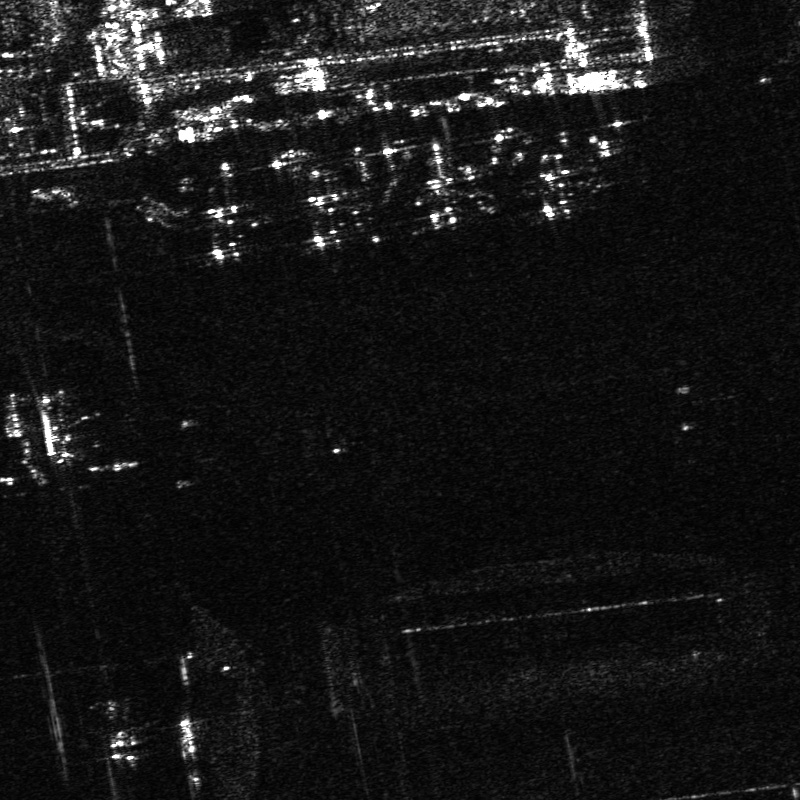Boeing787: (408, 144, 492, 238), (188, 162, 266, 260), (289, 157, 361, 244), (526, 138, 591, 221)
